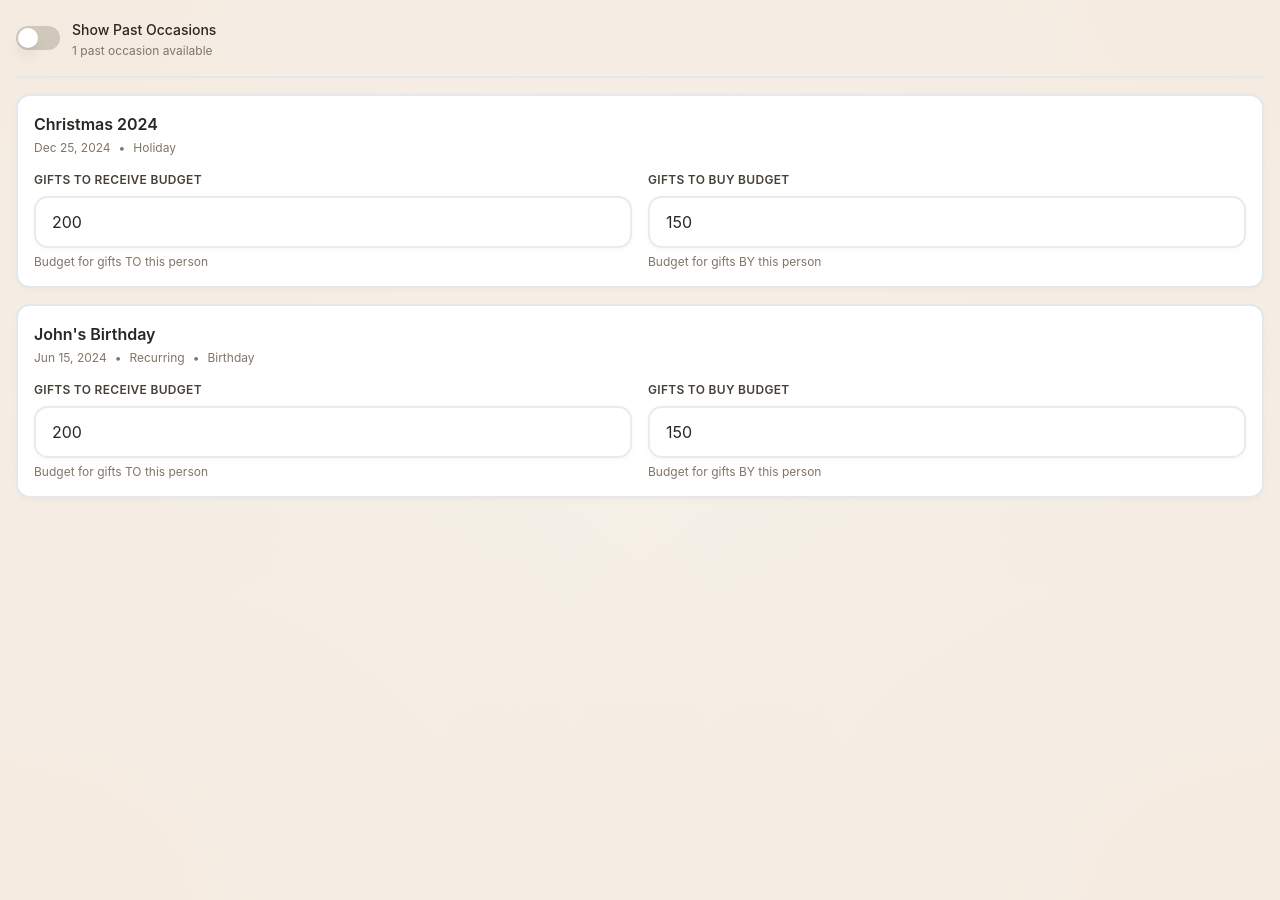
Scenario: PersonBudgetsTab › Filter Toggle › toggles between active and all occasions
Check: the heading "Christmas 2024" is shown, box top-left (34, 112), bottom-right (158, 136)
Check: the heading "John's Birthday" is shown, box top-left (34, 322), bottom-right (156, 346)
Note: Toggle to show all
Click the switch.
click(38, 38)  # box top-left (16, 26), bottom-right (60, 50)
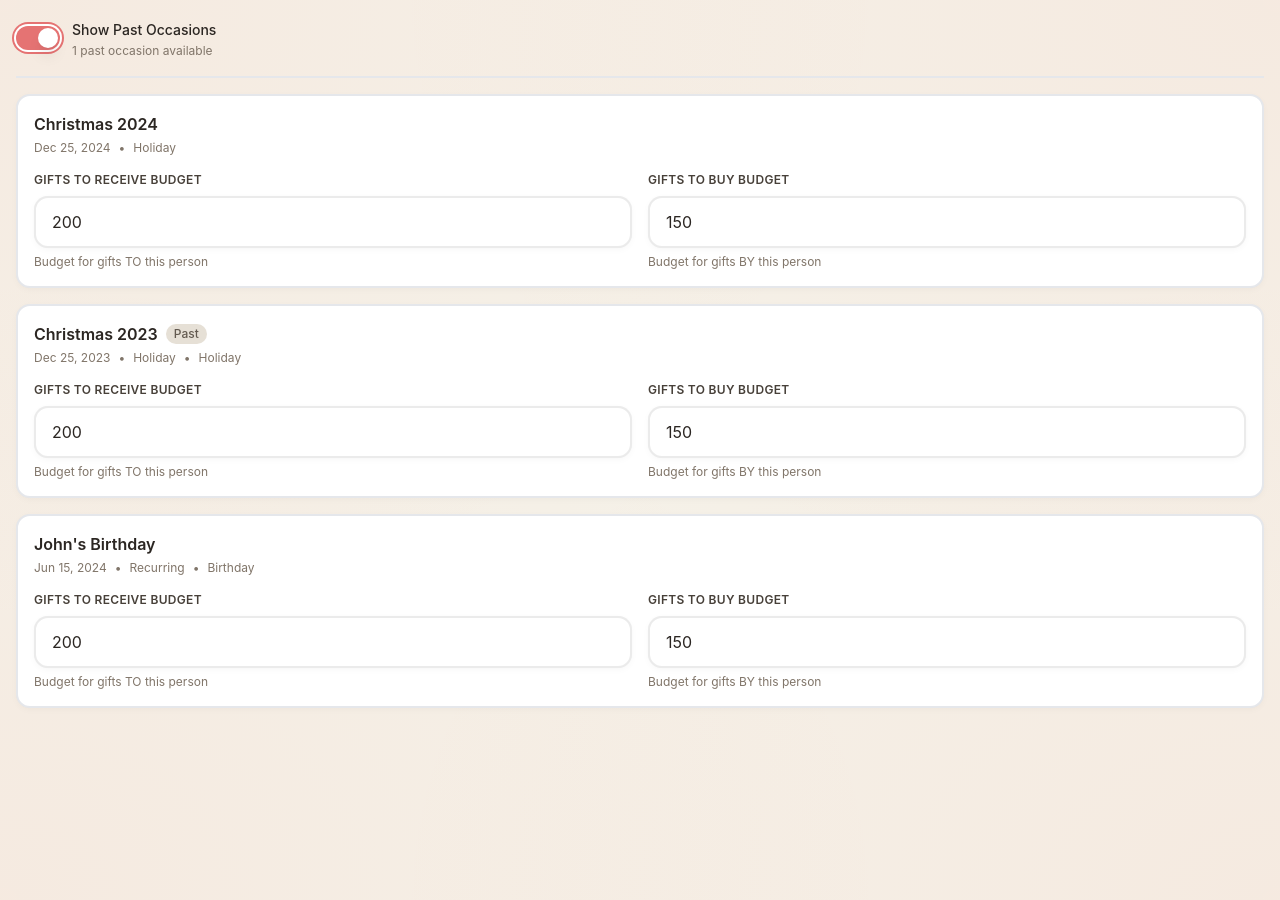
Check: the heading "Christmas 2024" is shown, box top-left (34, 112), bottom-right (158, 136)
Check: the heading "Christmas 2023" is shown, box top-left (34, 322), bottom-right (158, 346)
Note: Toggle back to hide past
Click the switch.
click(38, 38)  # box top-left (16, 26), bottom-right (60, 50)
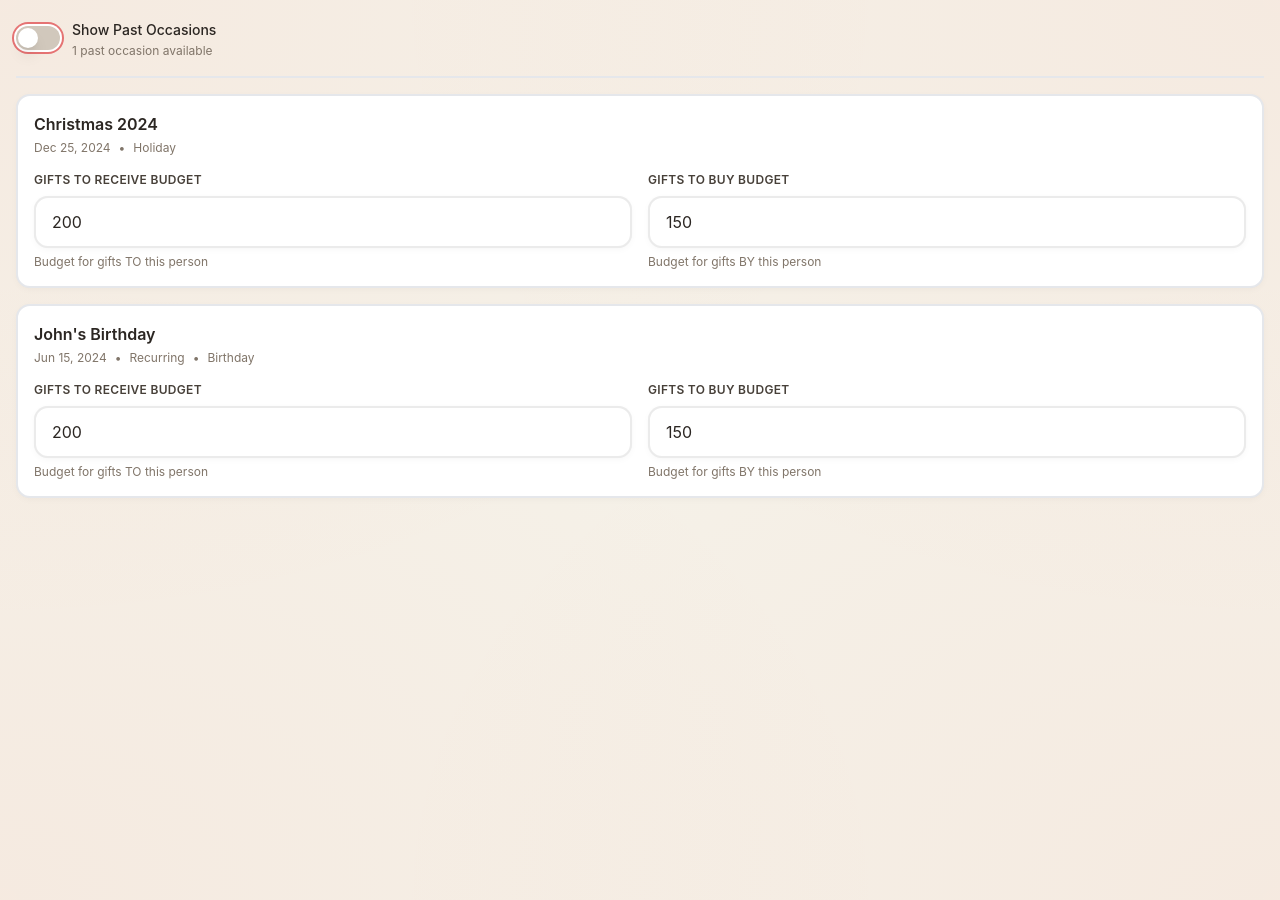
Check: the heading "Christmas 2023" is gone
